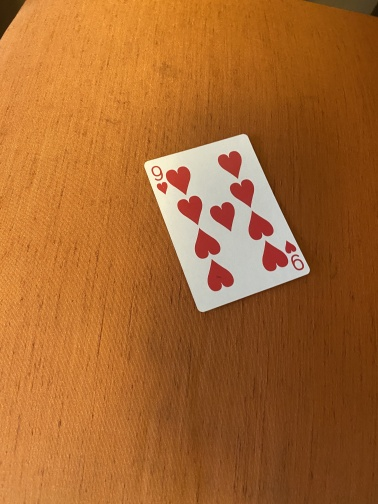nine: (143, 133, 311, 314)
